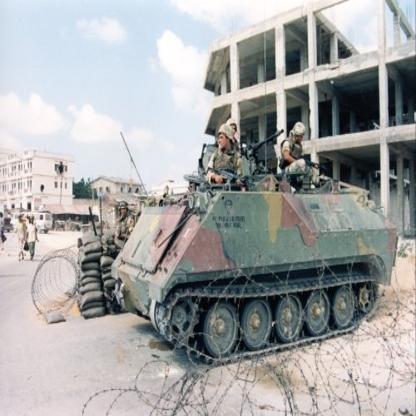Tank: (112, 120, 400, 364)
